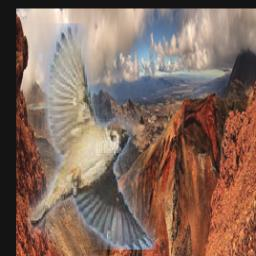Sparrow: (28, 24, 156, 251)
